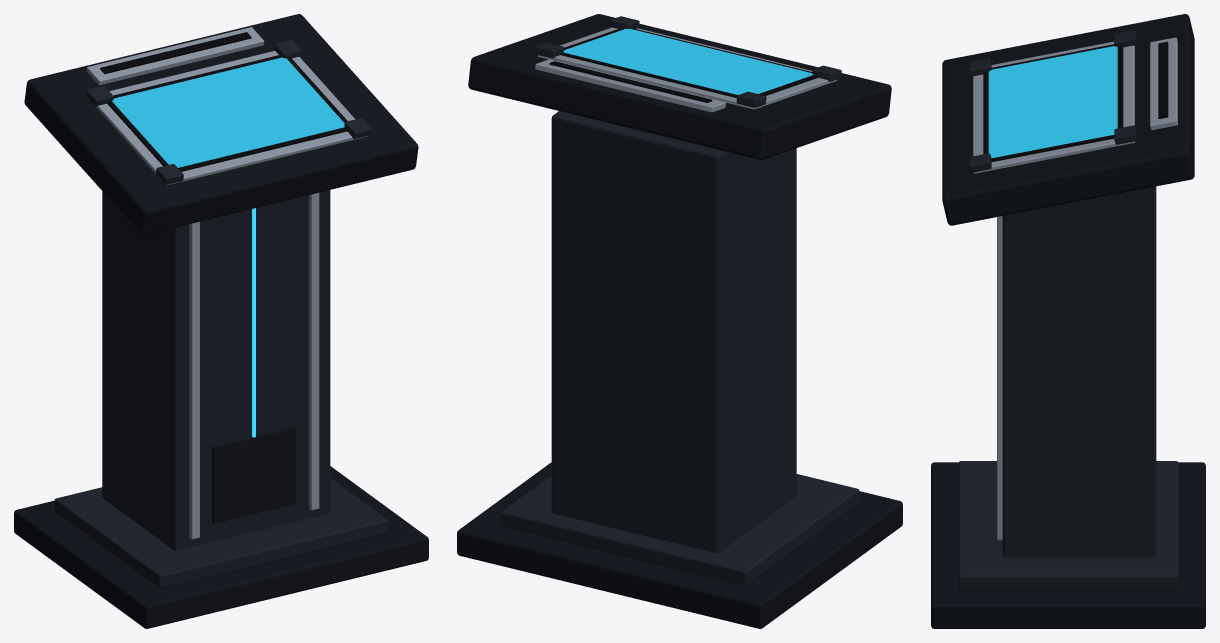
The model's file is ch1-scan-plinth.glb.
3 renders of one model, left to right at view 1: azimuth 30°, elevation 25°; view 2: azimuth 150°, elevation 25°; view 3: azimuth 270°, elevation 25°, orthographic. The views are drawn at different scales.
Parts seen in each view (by area): view 1: column, top_slab, foot, screen, foot_step, column_panel, pad_frame, column_trim_l, column_trim_r, slot_lip, pad_well, slot (+1 smaller); view 2: column, top_slab, foot, foot_step, screen, pad_frame, slot_lip, pad_well, slot; view 3: column, top_slab, foot, foot_step, screen, pad_frame, column_trim_r, pad_well, slot_lip, slot.
Part boxes in pixels (x1,y1,x2,y2): column: (102, 190, 330, 550); top_slab: (24, 14, 418, 235); foot: (14, 466, 428, 628); screen: (112, 57, 344, 167); foot_step: (54, 478, 388, 588); column_panel: (212, 426, 295, 523); pad_frame: (96, 51, 367, 185); column_trim_l: (189, 221, 199, 539); column_trim_r: (309, 192, 319, 510); slot_lip: (86, 27, 264, 85); pad_well: (107, 55, 347, 171); slot: (100, 32, 251, 74); column: (551, 111, 796, 553); top_slab: (468, 14, 891, 159); foot: (457, 462, 902, 628); foot_step: (500, 474, 859, 585); screen: (563, 28, 813, 94); pad_frame: (537, 27, 837, 109); slot_lip: (535, 59, 725, 112); pad_well: (560, 28, 818, 97); slot: (549, 61, 712, 102); column: (1002, 186, 1156, 557); top_slab: (942, 14, 1194, 225); foot: (931, 462, 1205, 628); foot_step: (958, 461, 1178, 590); screen: (988, 46, 1117, 158); pad_frame: (973, 41, 1134, 173); column_trim_r: (997, 216, 1002, 539); pad_well: (983, 44, 1123, 161); slot_lip: (1150, 37, 1177, 130); slot: (1158, 41, 1168, 118).
Bounding box in the file's own units: 0.62 × 0.9624 × 0.5.
